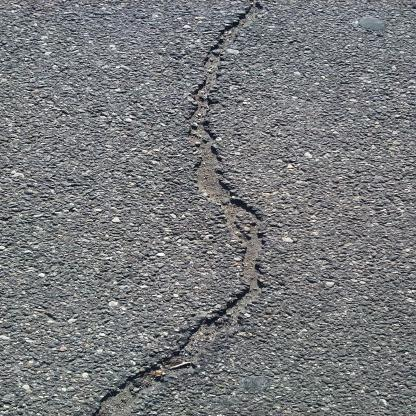Cracks: (88, 2, 290, 416)
